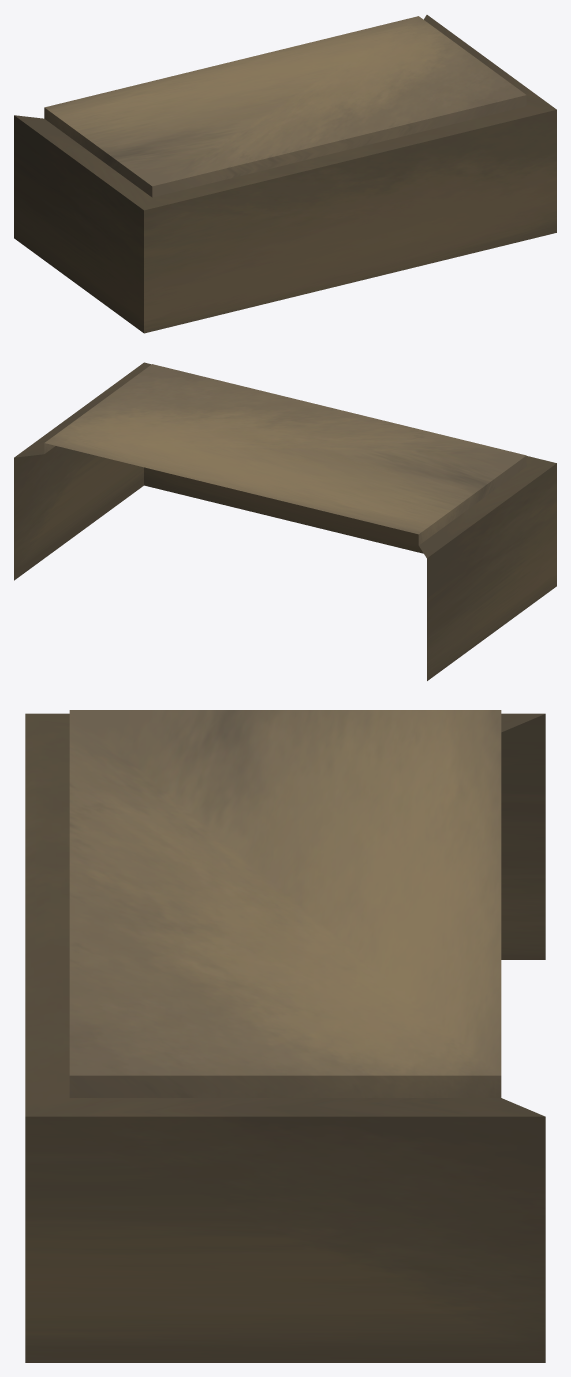
File: ground 1.fbx
3 renders of one model, top to bottom at view 1: azimuth 30°, elevation 25°; view 2: azimuth 150°, elevation 25°; view 3: azimuth 270°, elevation 25°, orthographic. The views are drawn at different scales.
Parts seen in each view (by area): view 1: Ground; view 2: Ground; view 3: Ground.
Boxes of the visible parts, left/top/right/bottom form: Ground: left=14, top=15, right=556, bottom=333; Ground: left=14, top=362, right=556, bottom=680; Ground: left=25, top=710, right=545, bottom=1362.
Size of the model in its own units: 2852 by 886 by 1557.
1 material, 1 textured.
